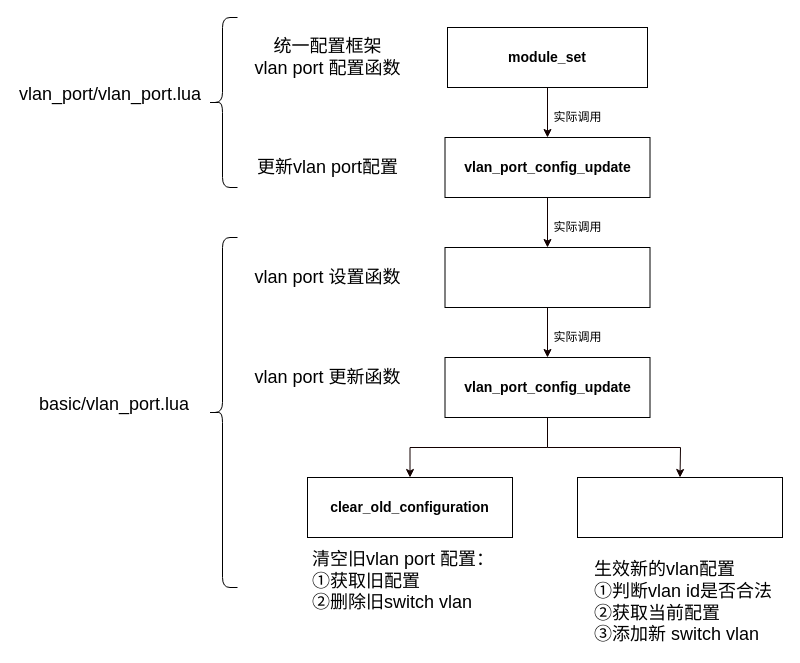
Some shapes in this 800 by 663 pixel diagram are drawn without their labels. Here are the shapes that lost their labels. From the top down, the box of each, then its label:
(444, 246, 650, 308): vlan_port_set
(576, 476, 782, 538): effect_new_configuration
